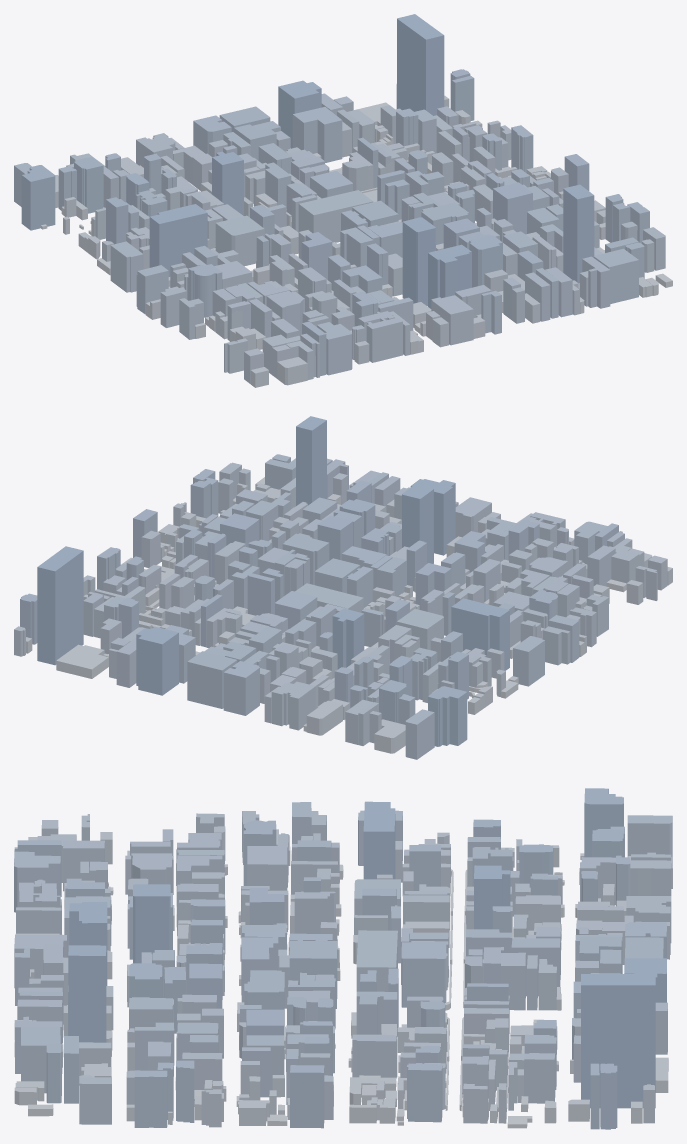
The picture shows the model from 3 angles, top to bottom: view 1: azimuth 30°, elevation 25°; view 2: azimuth 150°, elevation 25°; view 3: azimuth 270°, elevation 25°; orthographic projection. The views are drawn at different scales.
Size of the model in its own units: 521 by 107 by 520.
